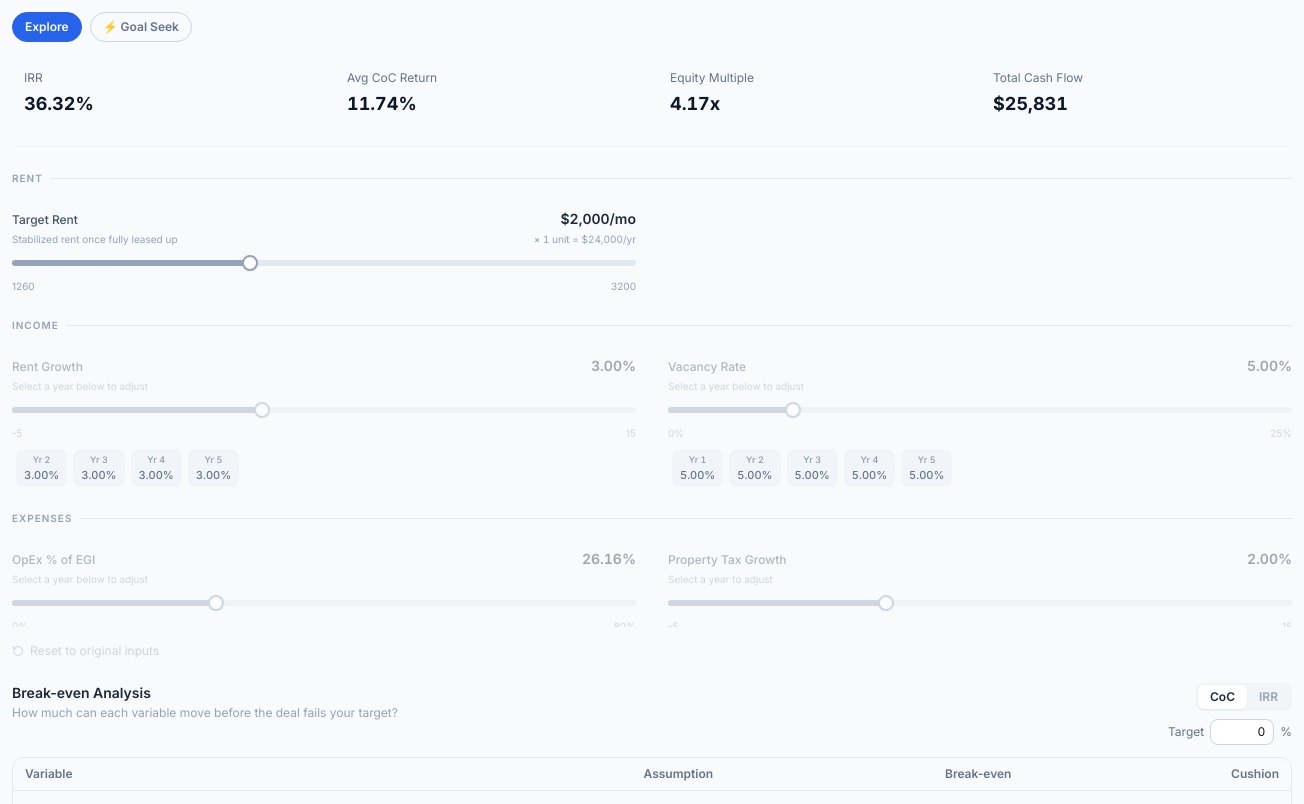
Test: WhatIfPanel — mode toggle › Goal Seek mode hides the break-even table
Click the button "⚡ Goal Seek". click: (141, 27)
box: [90,12,192,42]
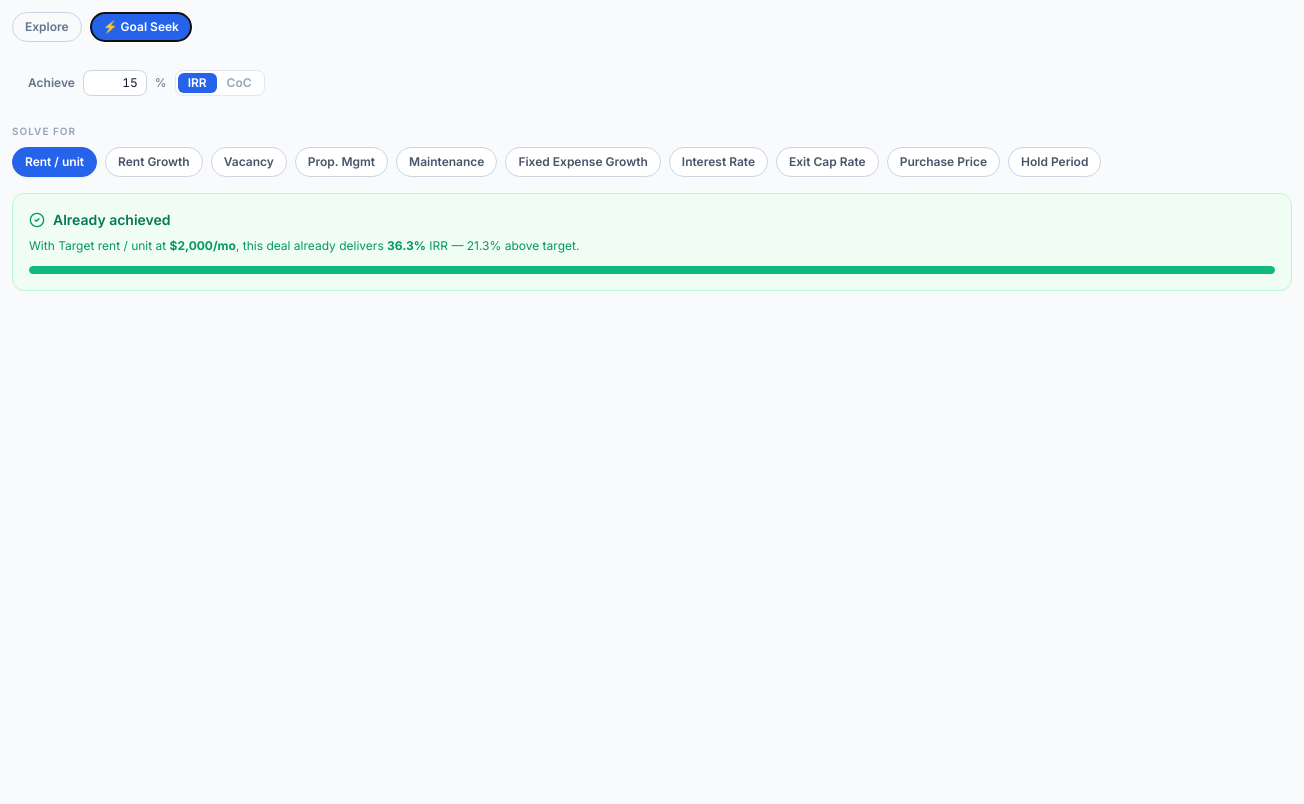
expect the text "Break-even Analysis" is gone: met
